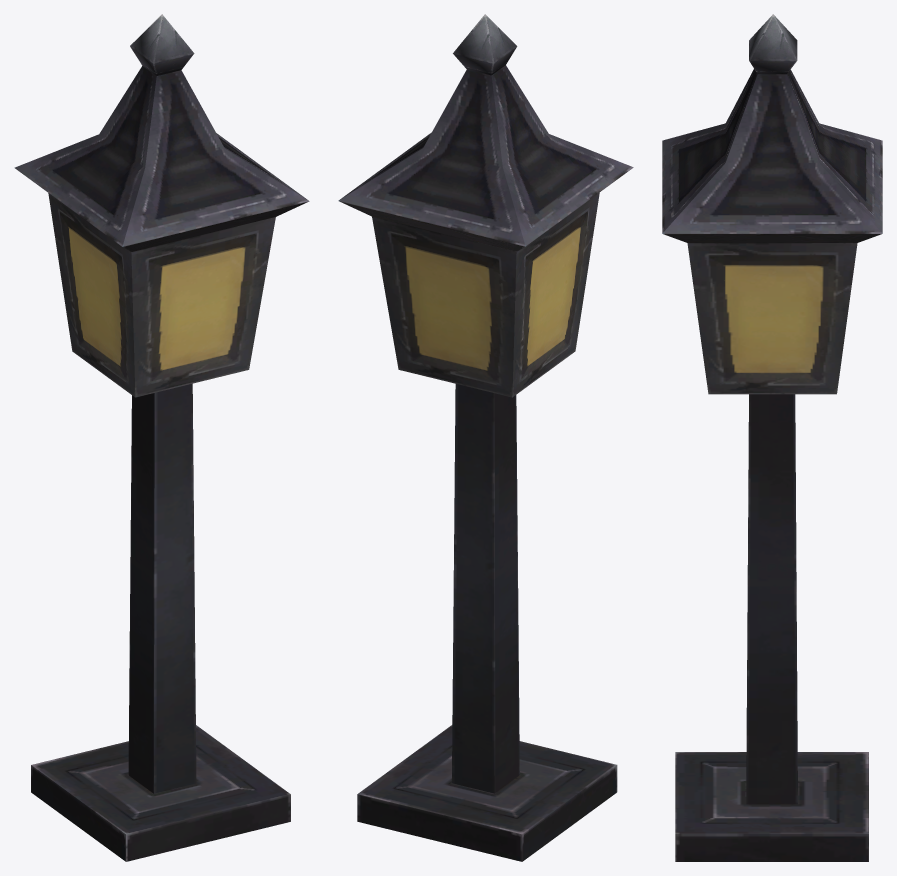
The model's file is q01c_thing_008.FBX.
The picture shows the model from 3 angles, left to right: view 1: azimuth 30°, elevation 25°; view 2: azimuth 150°, elevation 25°; view 3: azimuth 270°, elevation 25°; orthographic projection.
Visible parts, largest first — view 1: q01c_thing_008; view 2: q01c_thing_008; view 3: q01c_thing_008.
Boxes of the visible parts, x1,y1,x2,y2 form: q01c_thing_008: (14,14,309,861); q01c_thing_008: (338,14,633,861); q01c_thing_008: (662,14,882,861).
Bounding box in the file's own units: 45.66 × 185 × 45.66.
